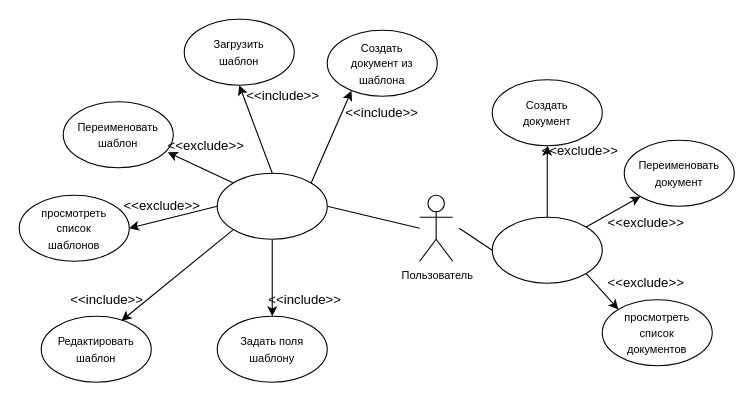
This 754x402 diagram has some shape labels left out. Each missing label, with the box of its shape:
Работа с документами: (491, 216, 602, 283)
Работа с шаблонами: (216, 172, 327, 239)
